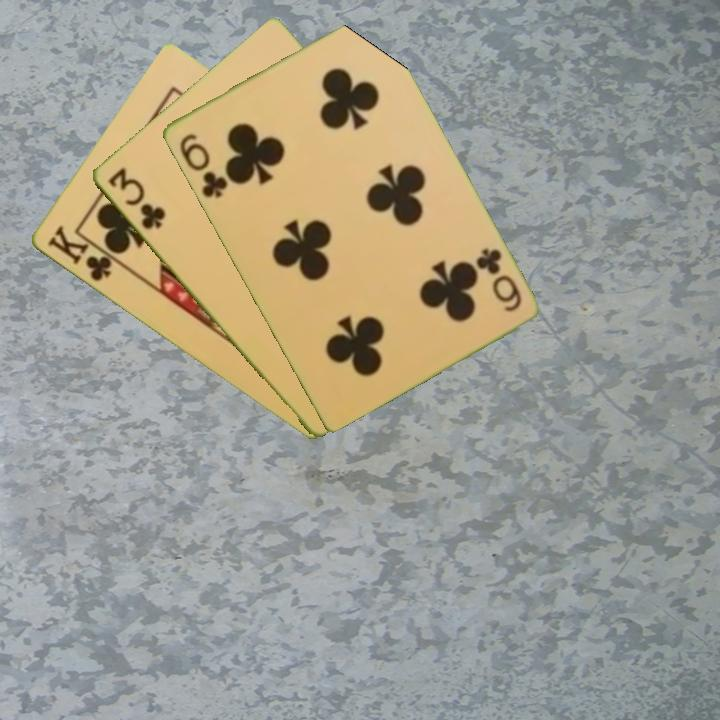3c: (104, 163, 168, 233)
6c: (175, 129, 230, 201), (471, 244, 524, 315)
Kc: (43, 221, 123, 285)
